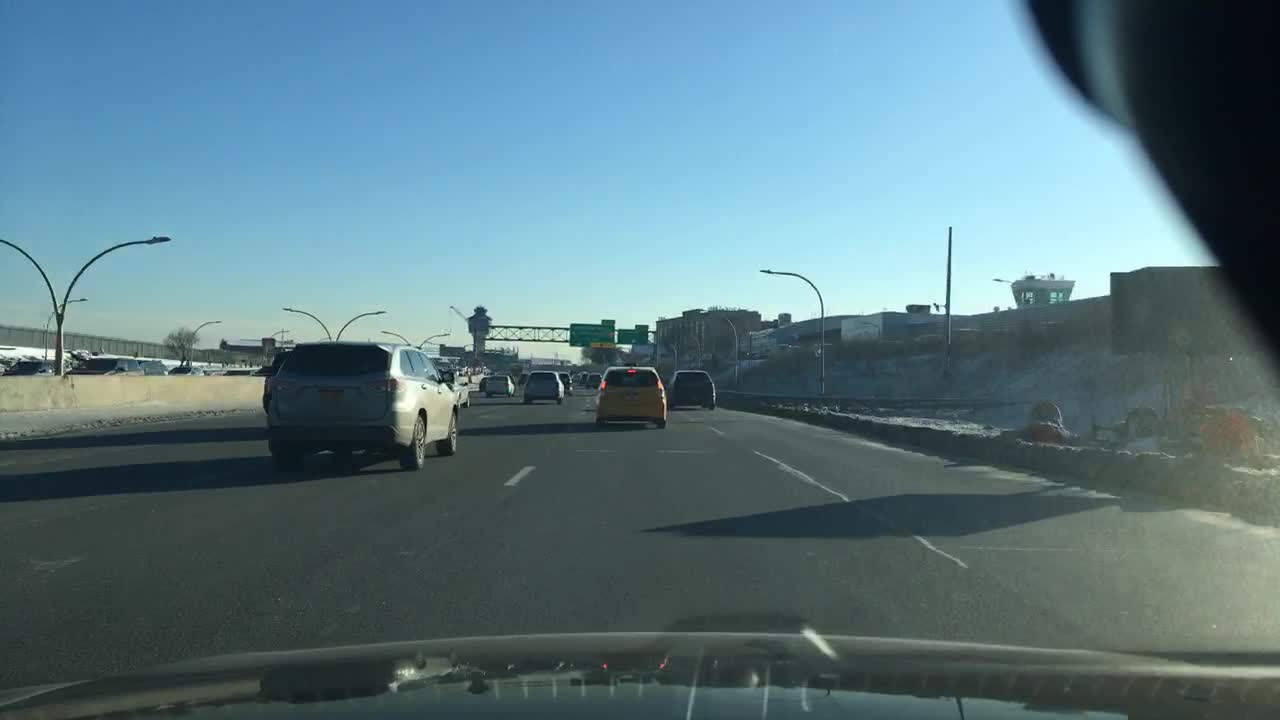car: (264, 337, 461, 473), (591, 363, 668, 428), (663, 368, 717, 411), (260, 345, 292, 414), (72, 356, 168, 377), (520, 369, 567, 407), (0, 358, 67, 379), (481, 373, 517, 399), (451, 378, 472, 409), (558, 370, 575, 395), (171, 364, 218, 373), (222, 364, 253, 375), (773, 341, 799, 351), (591, 370, 604, 388), (747, 349, 769, 359), (579, 368, 589, 384), (517, 370, 527, 383), (570, 370, 580, 382), (478, 376, 487, 388)
traffic sign: (566, 323, 616, 351), (617, 329, 650, 347), (635, 324, 650, 331), (599, 319, 617, 324)
